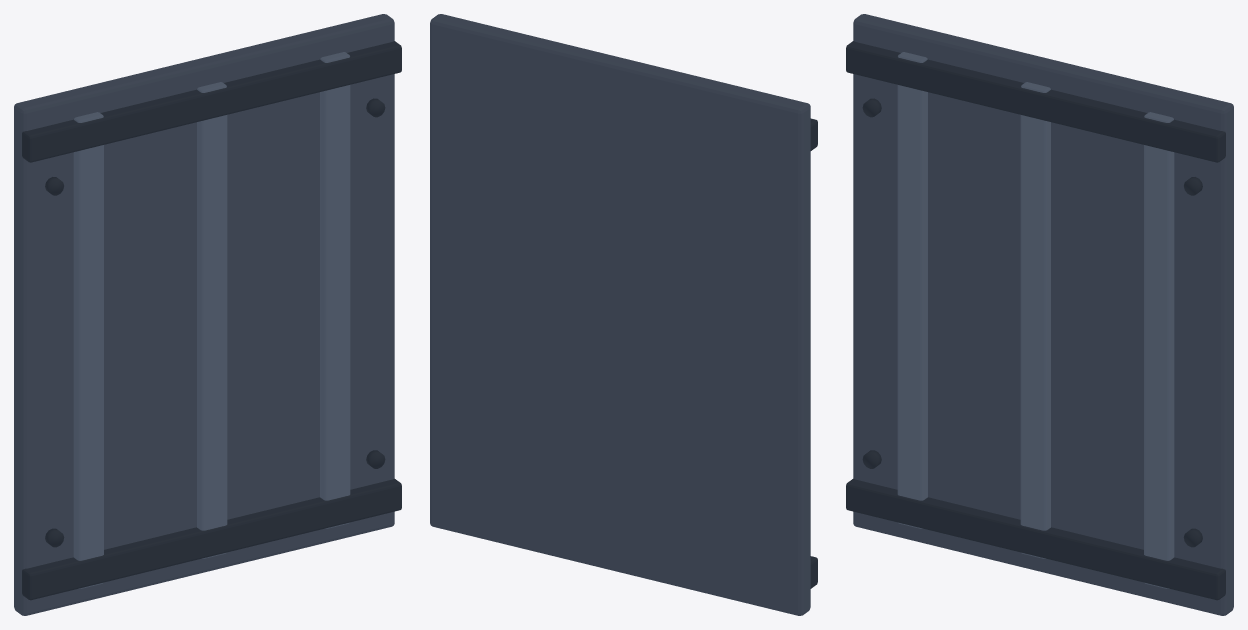
File: panel_pared.glb
The picture shows the model from 3 angles, left to right: view 1: azimuth 30°, elevation 25°; view 2: azimuth 150°, elevation 25°; view 3: azimuth 330°, elevation 25°; orthographic projection.
Parts seen in each view (by area): view 1: Cube.016, Cube.018, Cube.019, Cube.017, Cube.021, Cube.020; view 2: Cube.016; view 3: Cube.016, Cube.018, Cube.017, Cube.019, Cube.021, Cube.020.
Boxes of the visible parts, x1=… form: Cube.016: x1=14, y1=14, x2=394, y2=615; Cube.018: x1=197, y1=82, x2=227, y2=558; Cube.019: x1=320, y1=52, x2=350, y2=528; Cube.017: x1=73, y1=112, x2=103, y2=588; Cube.021: x1=22, y1=41, x2=401, y2=162; Cube.020: x1=22, y1=478, x2=401, y2=600; Cube.016: x1=430, y1=14, x2=810, y2=615; Cube.016: x1=853, y1=14, x2=1233, y2=615; Cube.018: x1=1020, y1=82, x2=1050, y2=558; Cube.017: x1=897, y1=52, x2=927, y2=528; Cube.019: x1=1144, y1=112, x2=1174, y2=588; Cube.021: x1=846, y1=41, x2=1225, y2=162; Cube.020: x1=846, y1=478, x2=1225, y2=600.
Bounding box in the file's own units: 2 × 2.6 × 0.17.
